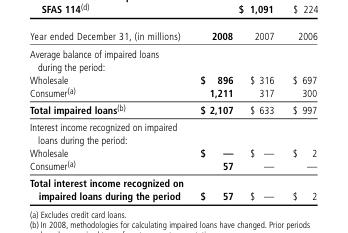table: (28, 28, 316, 201)
table column: (28, 28, 191, 201), (191, 28, 240, 201), (240, 28, 282, 201), (282, 28, 316, 201)
table column header: (28, 28, 316, 44)
table projected row header: (28, 44, 316, 72), (28, 118, 316, 146)
table row: (28, 44, 316, 72), (28, 118, 316, 146), (28, 174, 316, 201), (28, 100, 316, 118), (28, 28, 316, 44), (28, 158, 316, 174), (28, 85, 316, 100), (28, 72, 316, 85), (28, 146, 316, 158)
